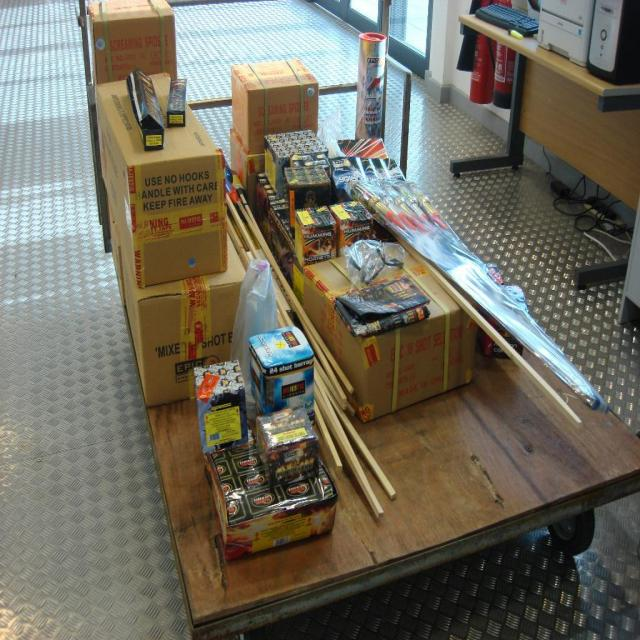Table: (449, 12, 640, 290)
